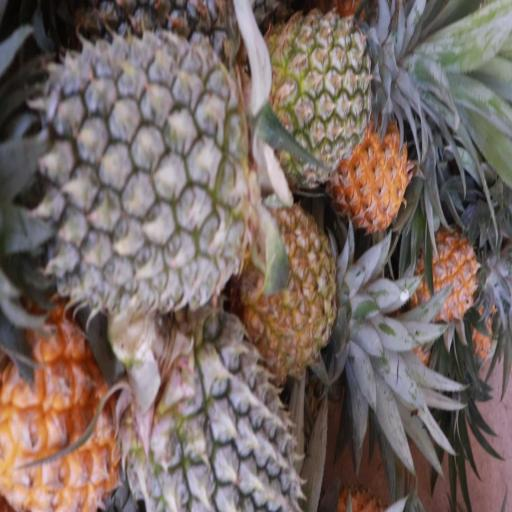------------------------------: (267, 14, 380, 176), (247, 210, 337, 366)
Pineapple - v8 v1: (0, 325, 121, 512), (339, 115, 408, 226), (411, 234, 480, 316)
